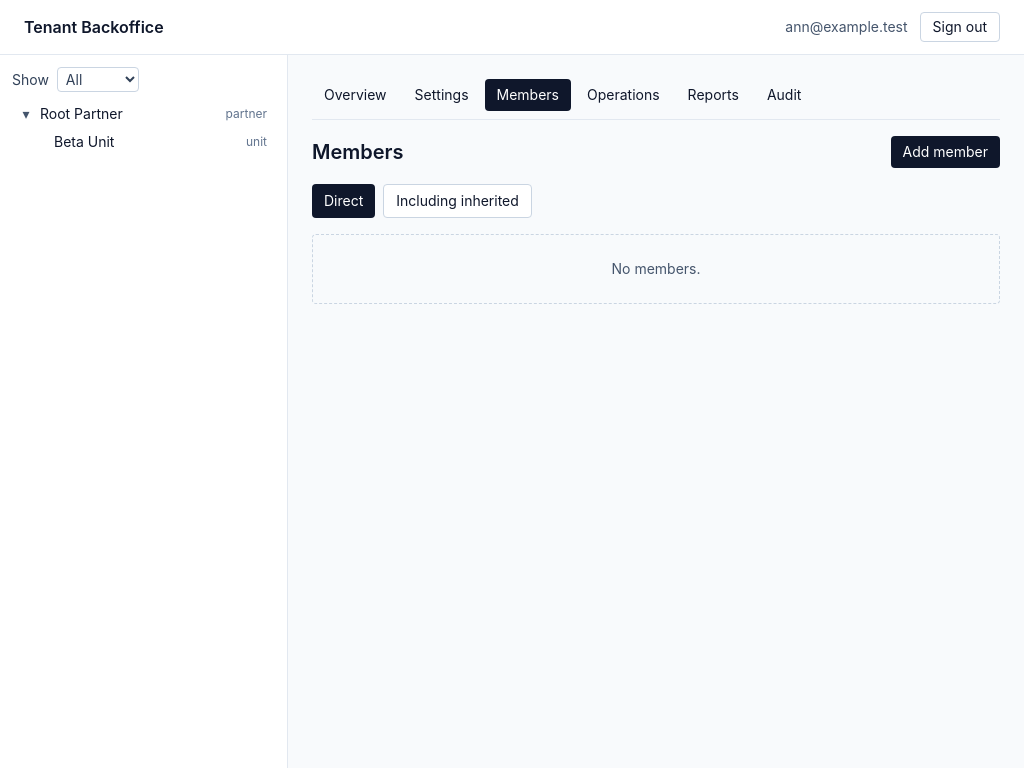
members › [T-W-01] a 403 role_not_grantable on add shows the permission Alert and reads the permissions again
The image size is (1024, 768).
Click the button "Add member": (945, 152) [891,136,1000,168]
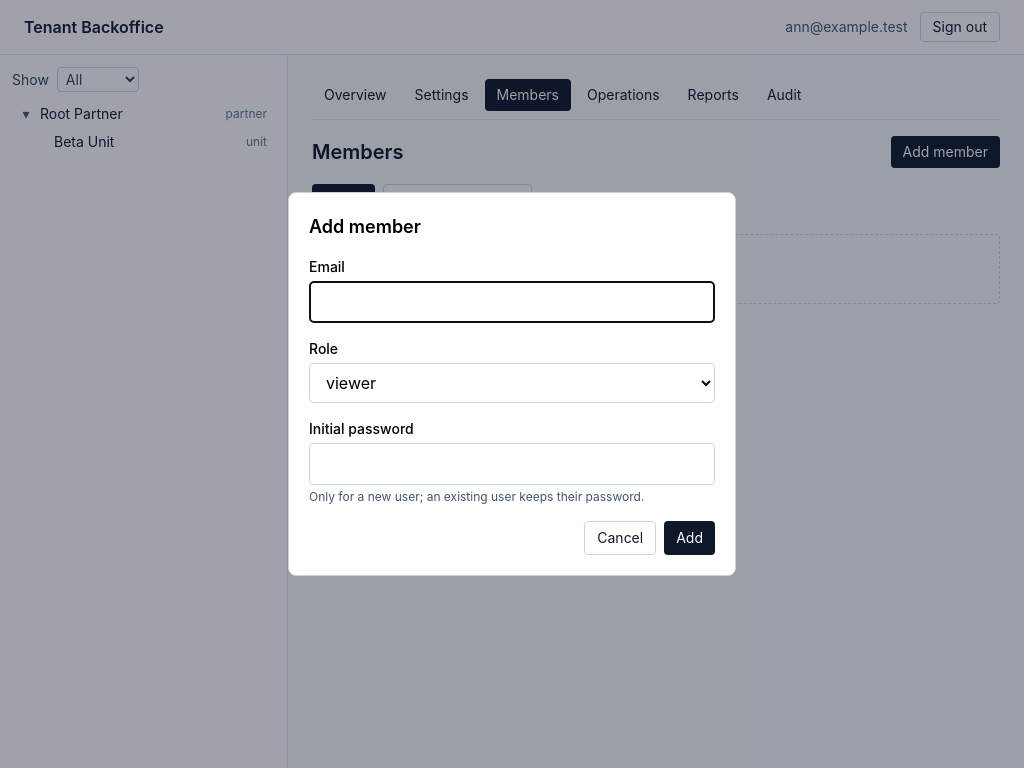
In the field labelled "Email": (512, 302) [309,281,715,323], type "a@example.test"
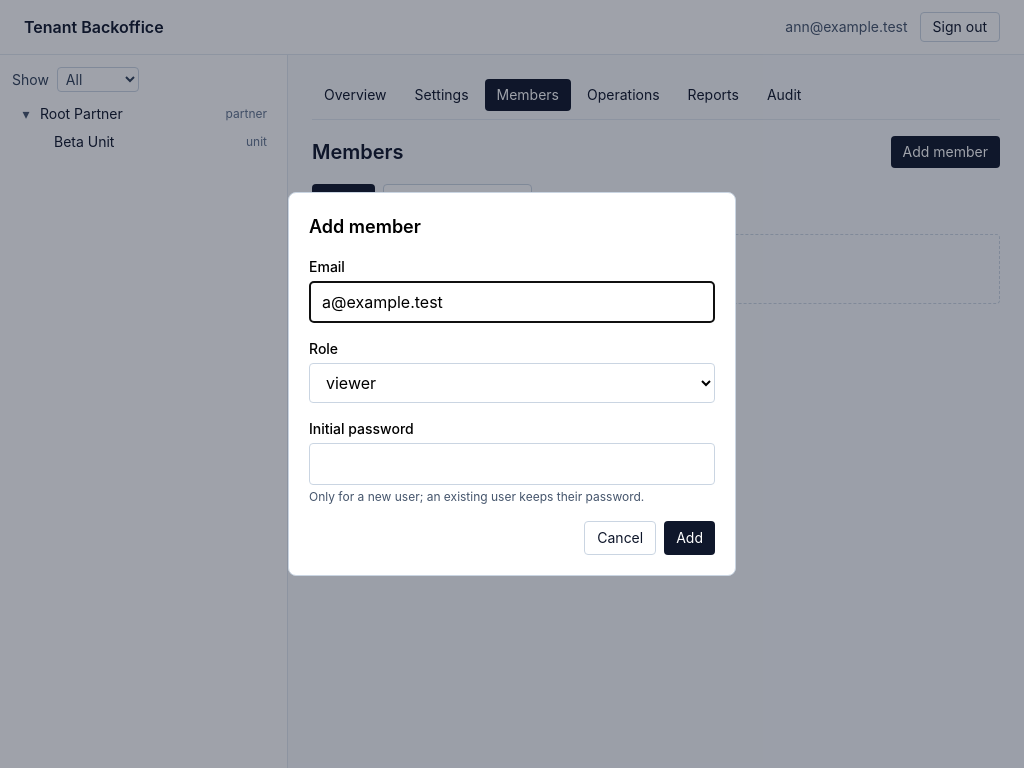
Click the submit button: (690, 538) [664,521,715,555]
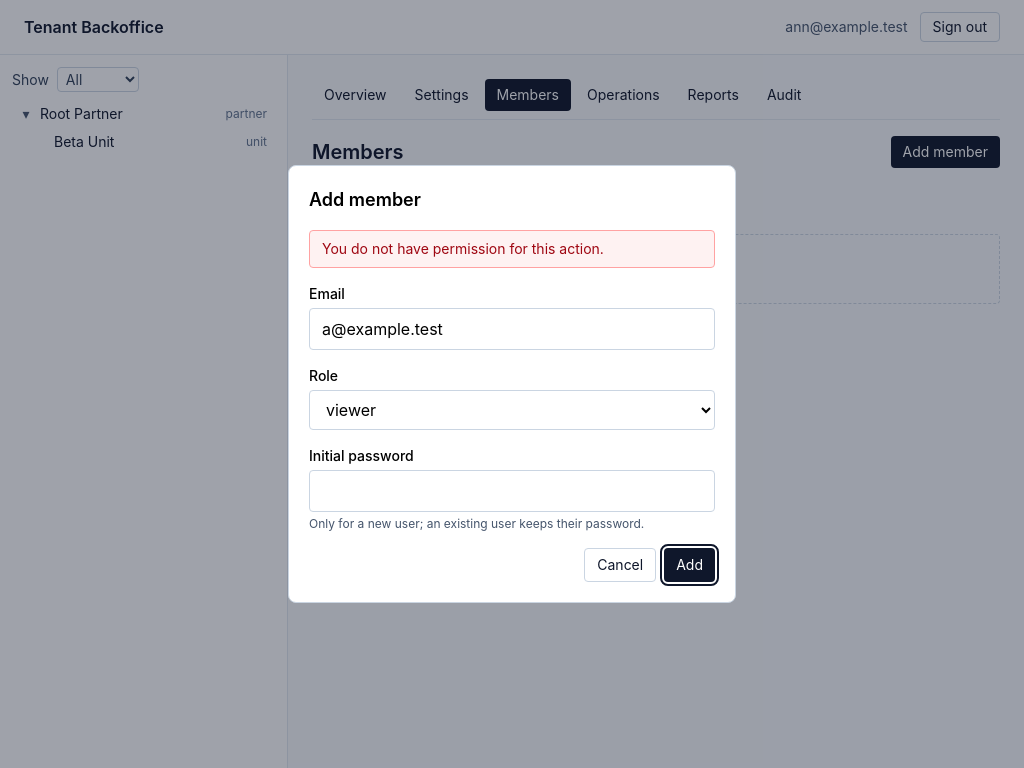
Check: the message shows "You do not have permission for this action", box [322,240,604,257]
